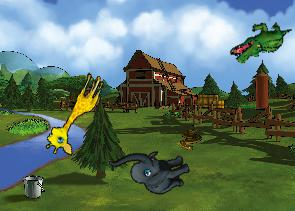crocodile: (227, 8, 293, 76)
elephant: (108, 129, 195, 210)
giraffe: (41, 66, 107, 160)
